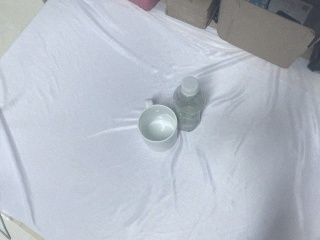bottle: (173, 76, 205, 132)
box: (164, 1, 224, 28)
cup: (138, 103, 179, 153)
